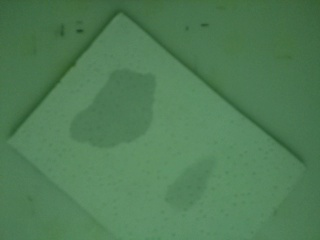Water_detected: (80, 76, 154, 142), (172, 162, 212, 208)
